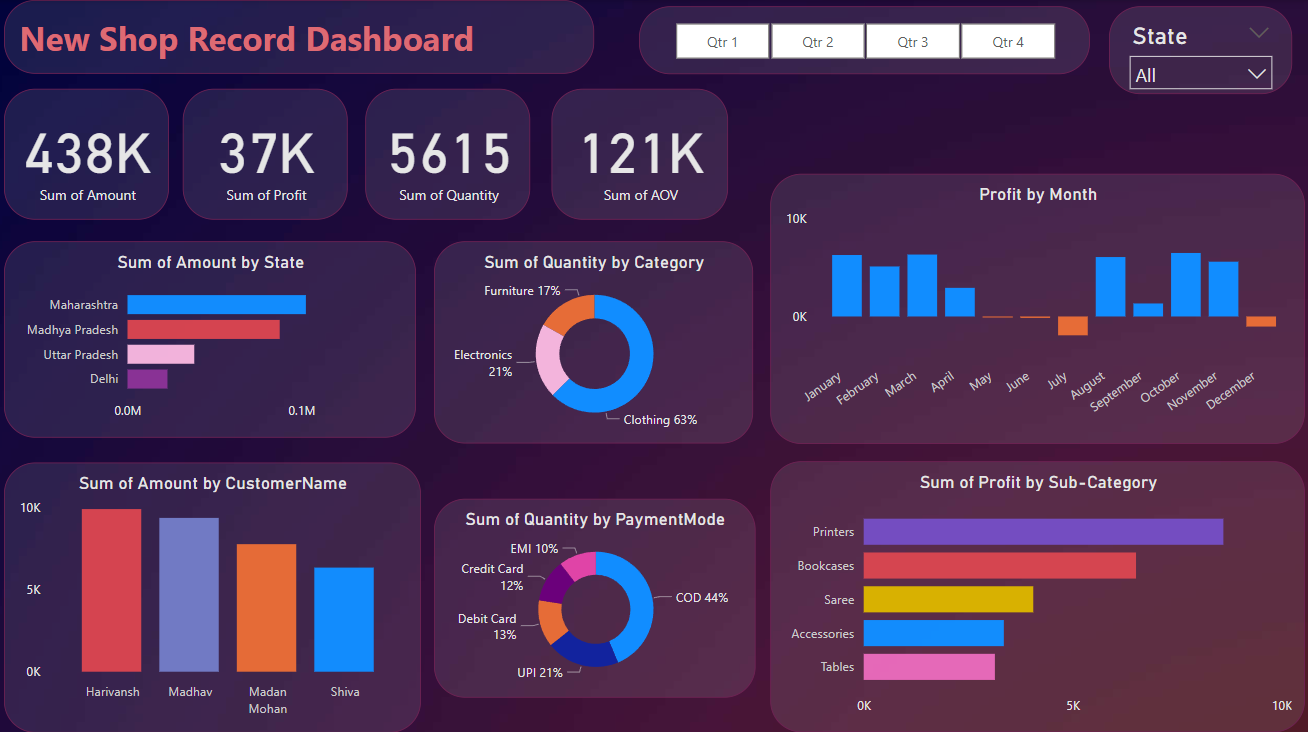

The dashboard page shown, as its layout file describes it:
{"tool":"powerbi","page":{"name":"Page 2","canvas":[1280,720],"ordinal":0},"visuals":[{"type":"textbox","box":[9.6,0,569.5,71.4],"z":0},{"type":"columnChart","title":" Profit by Month","fields":{"Y":["Details.Profit"],"Category":["Orders.Order Date.Variation.Date Hierarchy.Month"]},"box":[749.2,167.4,516,260.7],"z":1000},{"type":"barChart","fields":{"Category":["Details.Sub-Category"],"Y":["Details.Profit"]},"box":[749.2,445.2,516.4,261.8],"z":2000},{"type":"donutChart","fields":{"Category":["Details.Category"],"Y":["Details.Quantity"]},"box":[424.7,232.8,307.6,195.4],"z":3000},{"type":"donutChart","fields":{"Category":["Details.PaymentMode"],"Y":["Details.Quantity"]},"box":[424.7,481.4,310.1,191.8],"z":4000},{"type":"card","fields":{"Values":["Details.Amount"]},"box":[9.7,85.7,159.3,126.7],"z":5000},{"type":"card","fields":{"Values":["Details.Profit"]},"box":[182.2,85.7,159.3,126.7],"z":6000},{"type":"card","fields":{"Values":["Details.Quantity"]},"box":[358.3,85.7,159.3,126.7],"z":7000},{"type":"card","fields":{"Values":["Details.AOV"]},"box":[538.1,85.7,170.1,126.7],"z":8000},{"type":"barChart","fields":{"Category":["Orders.State"],"Y":["Details.Amount"]},"box":[9.6,233.3,397.9,189.4],"z":9000},{"type":"columnChart","fields":{"Category":["Orders.CustomerName"],"Y":["Details.Amount"]},"box":[9.6,446,402.1,260.7],"z":10000},{"type":"slicer","fields":{"Values":["Orders.Order Date.Variation.Date Hierarchy.Quarter"]},"box":[623,5.5,435,65.9],"z":11000},{"type":"slicer","fields":{"Values":["Orders.State"]},"box":[1075.8,5.5,177,85.1],"z":12000}]}

Visuals, with their boxes in screenshot pixels (x1, y1, x2, y2), scaled from the page's 1280x720 canvas onto the 1308x732 screenshot:
textbox: (10, 0, 592, 73)
" Profit by Month" columnChart: (766, 170, 1293, 435)
barChart - Details.Sub-Category x Details.Profit: (766, 453, 1293, 719)
donutChart - Details.Category x Details.Quantity: (434, 237, 748, 435)
donutChart - Details.PaymentMode x Details.Quantity: (434, 489, 751, 684)
card - Details.Amount: (10, 87, 173, 216)
card - Details.Profit: (186, 87, 349, 216)
card - Details.Quantity: (366, 87, 529, 216)
card - Details.AOV: (550, 87, 724, 216)
barChart - Orders.State x Details.Amount: (10, 237, 416, 430)
columnChart - Orders.CustomerName x Details.Amount: (10, 453, 421, 718)
slicer - Orders.Order Date.Variation.Date Hierarchy.Quarter: (637, 6, 1081, 73)
slicer - Orders.State: (1099, 6, 1280, 92)
